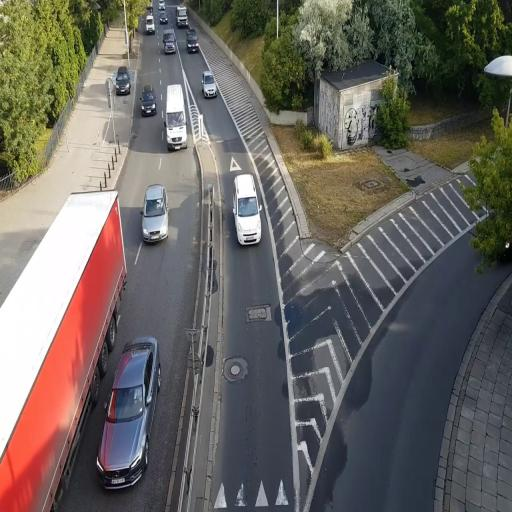vehicle: (96, 336, 160, 492), (164, 82, 187, 152), (142, 184, 169, 243), (142, 184, 168, 243), (114, 68, 131, 96), (140, 88, 156, 116), (201, 71, 217, 98), (162, 30, 178, 54), (186, 31, 200, 54), (144, 14, 156, 35)
